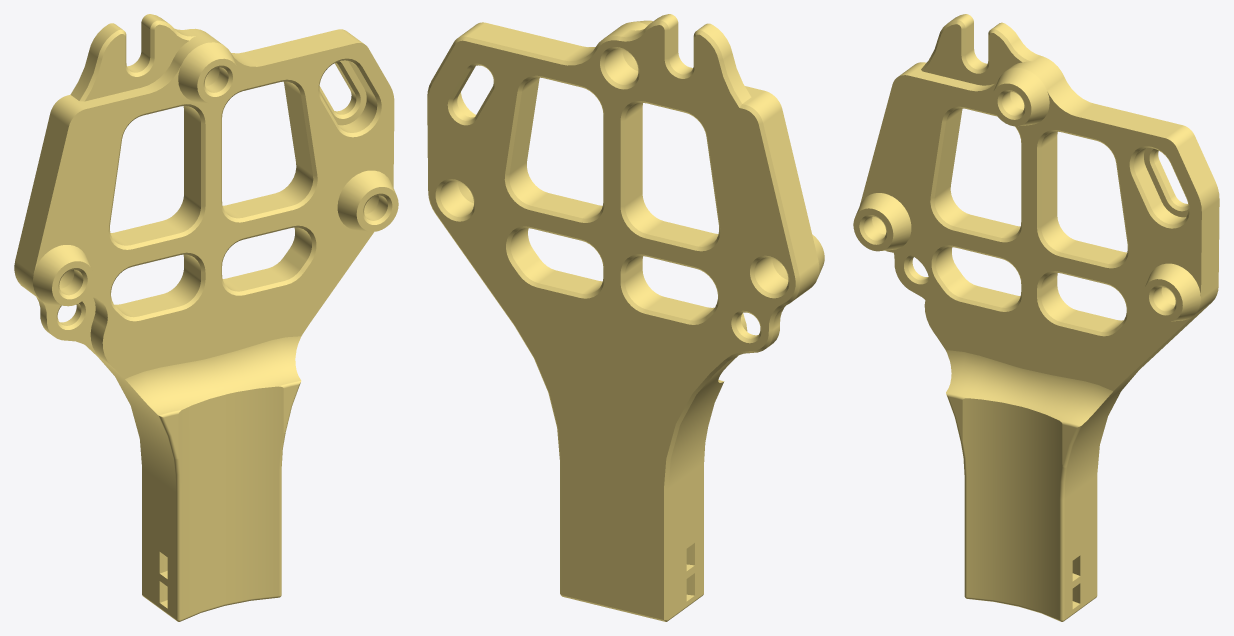
File: A4T - Xol_PCB Mount - WWBMG.gltf
The picture shows the model from 3 angles, left to right: view 1: azimuth 30°, elevation 25°; view 2: azimuth 150°, elevation 25°; view 3: azimuth 330°, elevation 25°; orthographic projection. The views are drawn at different scales.
Visible parts, largest first — view 1: A4T - Xol_PCB Mount - WWBMG; view 2: A4T - Xol_PCB Mount - WWBMG; view 3: A4T - Xol_PCB Mount - WWBMG.
Boxes of the visible parts, box(x1,y1,x2,y2) form: A4T - Xol_PCB Mount - WWBMG: box(14, 14, 398, 621); A4T - Xol_PCB Mount - WWBMG: box(427, 14, 824, 621); A4T - Xol_PCB Mount - WWBMG: box(853, 14, 1219, 621).
Bounding box in the file's own units: 0.0517 × 0.0794 × 0.00944.
